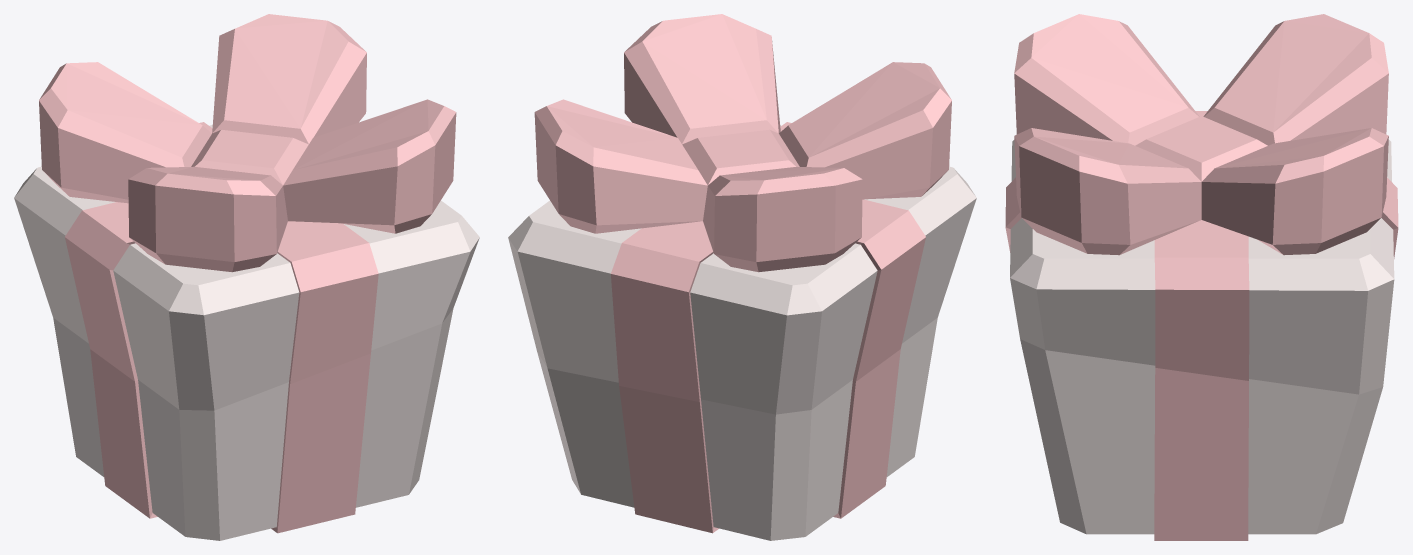
Rendered from regalo.glb.
The picture shows the model from 3 angles, left to right: view 1: azimuth 30°, elevation 25°; view 2: azimuth 150°, elevation 25°; view 3: azimuth 270°, elevation 25°; orthographic projection. The views are drawn at different scales.
Parts seen in each view (by area): view 1: Gift; view 2: Gift; view 3: Gift.
Part boxes in pixels (bbox=[...]): Gift: bbox=[14, 14, 479, 540]; Gift: bbox=[508, 14, 976, 540]; Gift: bbox=[1005, 14, 1398, 540].
Bounding box in the file's own units: 2 × 2.24 × 2.02.
